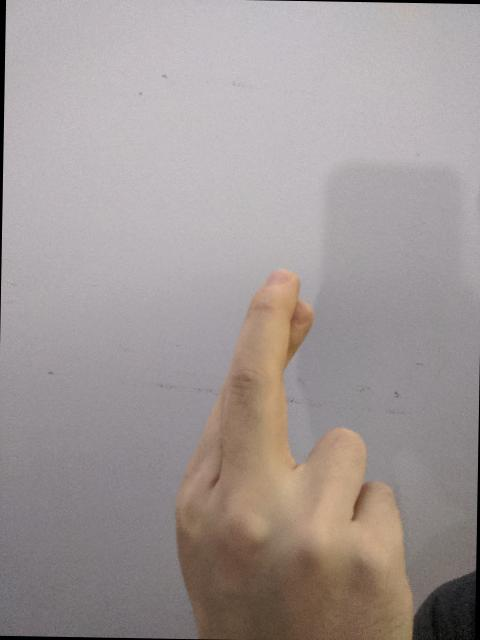R: (166, 259, 427, 640)
